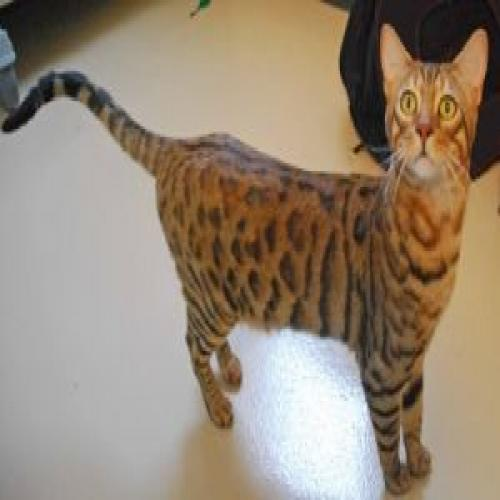bengal: (376, 16, 494, 198)
